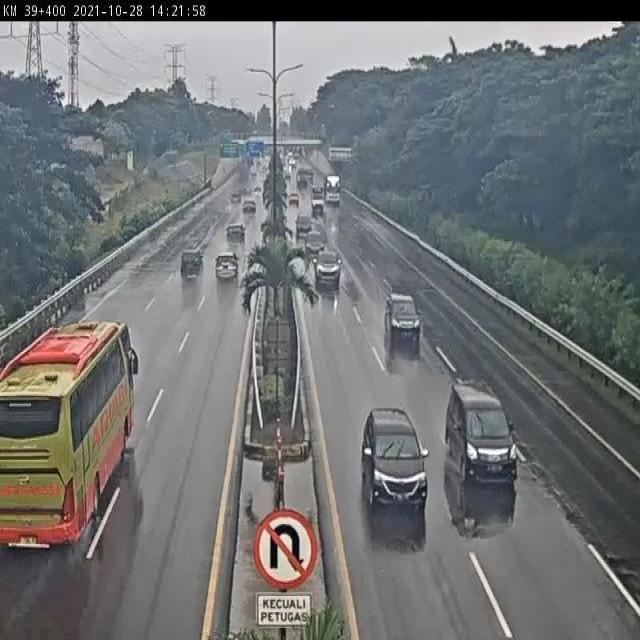big bus: (0, 323, 133, 553)
car: (444, 379, 521, 484), (360, 407, 430, 512), (386, 289, 423, 344), (313, 248, 342, 287), (211, 250, 238, 286), (178, 248, 205, 283), (305, 231, 328, 264), (225, 220, 246, 245), (295, 212, 314, 239)
